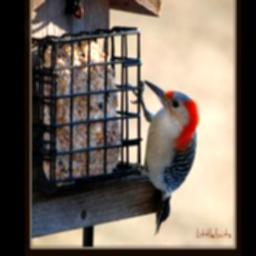Woodpecker: (128, 80, 198, 236)
